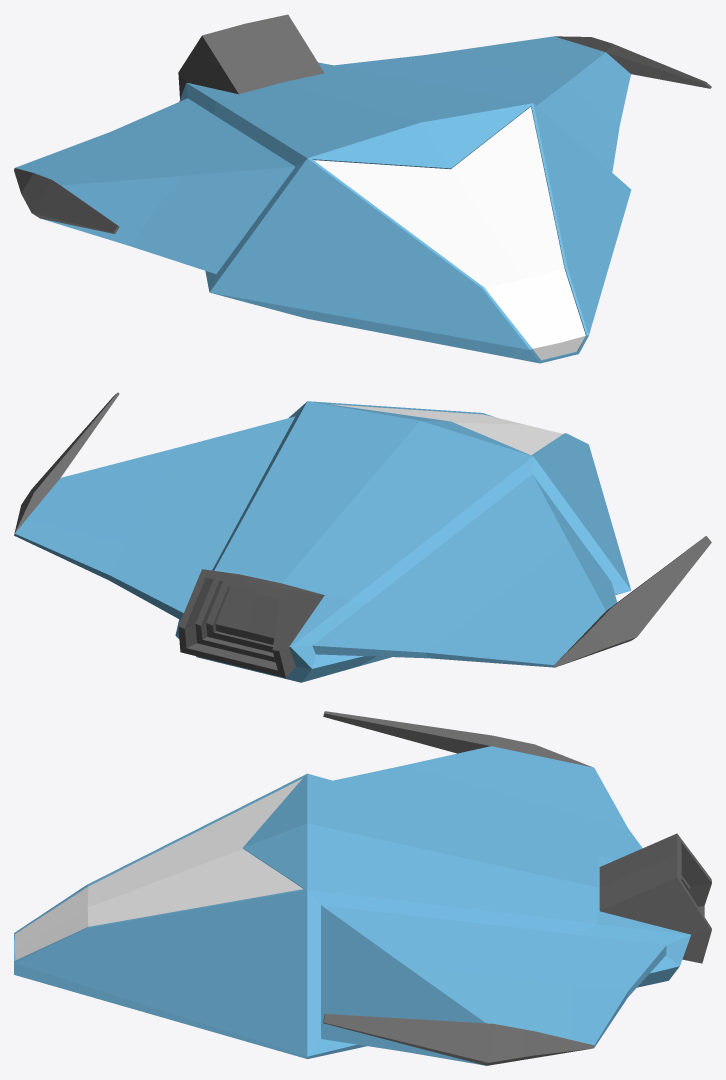
The model's file is ship_29.fbx.
3 renders of one model, top to bottom at view 1: azimuth 30°, elevation 25°; view 2: azimuth 150°, elevation 25°; view 3: azimuth 270°, elevation 25°, orthographic. The views are drawn at different scales.
Visible parts, largest first — view 1: ship_29; view 2: ship_29; view 3: ship_29.
Part boxes in pixels (x1,y1,x2,y2): ship_29: [14, 14, 711, 363]; ship_29: [14, 392, 711, 682]; ship_29: [14, 711, 711, 1065].
Bounding box in the file's own units: 629 × 167 × 596.
